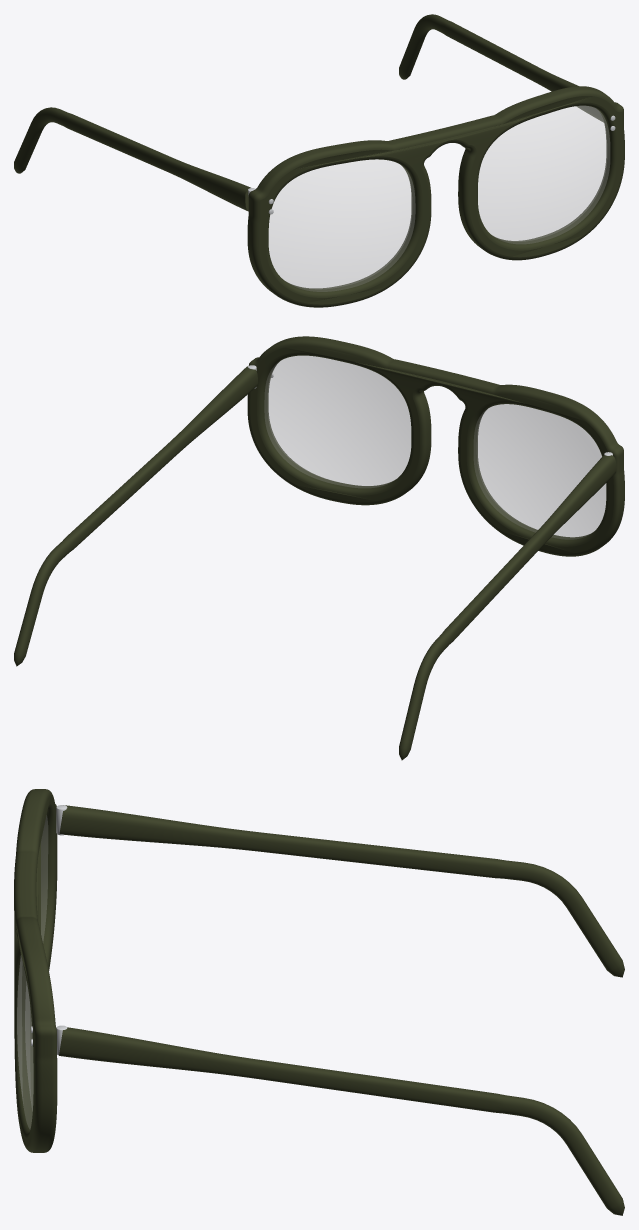
Rendered from theo-s.glb.
3 views of the same model, one above another, from view 1: azimuth 30°, elevation 25°; view 2: azimuth 150°, elevation 25°; view 3: azimuth 270°, elevation 25° (orthographic). The views are drawn at different scales.
Visible parts, largest first — view 1: Front, Lens_R, Lens_L, Temple_R, Temple_L; view 2: Front, Lens_L, Lens_R, Temple_L, Temple_R; view 3: Front, Temple_L, Temple_R, Lens_L, Lens_R.
Boxes of the visible parts, <box> form: Front: <box>247,86,624,307</box>; Lens_R: <box>269,159,415,291</box>; Lens_L: <box>478,106,609,243</box>; Temple_R: <box>14,107,250,211</box>; Temple_L: <box>399,14,603,122</box>; Front: <box>247,336,624,556</box>; Lens_L: <box>264,356,410,487</box>; Lens_R: <box>474,404,605,539</box>; Temple_L: <box>14,366,257,666</box>; Temple_R: <box>399,455,616,760</box>; Front: <box>14,789,67,1152</box>; Temple_L: <box>59,1027,624,1215</box>; Temple_R: <box>59,805,624,977</box>; Lens_L: <box>17,956,33,1128</box>; Lens_R: <box>41,816,47,940</box>.
Size of the model in its own units: 0.1287 by 0.0546 by 0.1363.
